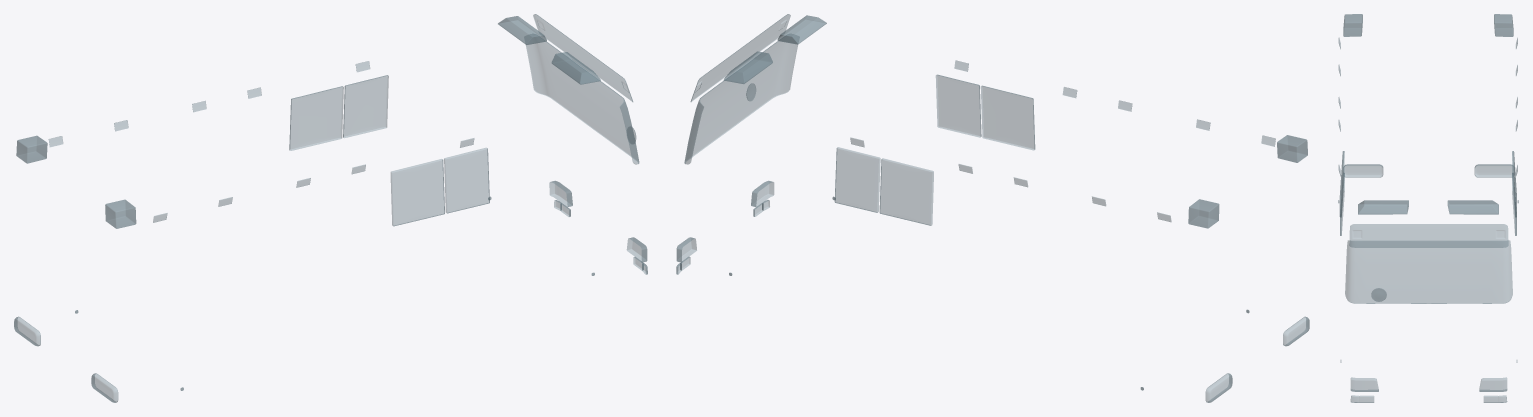
3 views of the same model, side by side, from view 1: azimuth 30°, elevation 25°; view 2: azimuth 150°, elevation 25°; view 3: azimuth 270°, elevation 25° (orthographic). The views are drawn at different scales.
Visible parts, largest first — view 1: SM_ActrosFiretruck_Glass_Ext1; view 2: SM_ActrosFiretruck_Glass_Ext1; view 3: SM_ActrosFiretruck_Glass_Ext1.
Part boxes in pixels (<box>): SM_ActrosFiretruck_Glass_Ext1: <box>14,14,647,402</box>; SM_ActrosFiretruck_Glass_Ext1: <box>676,14,1309,402</box>; SM_ActrosFiretruck_Glass_Ext1: <box>1338,14,1518,402</box>.
Size of the model in its own units: 8.34 by 3.1 by 2.84.
